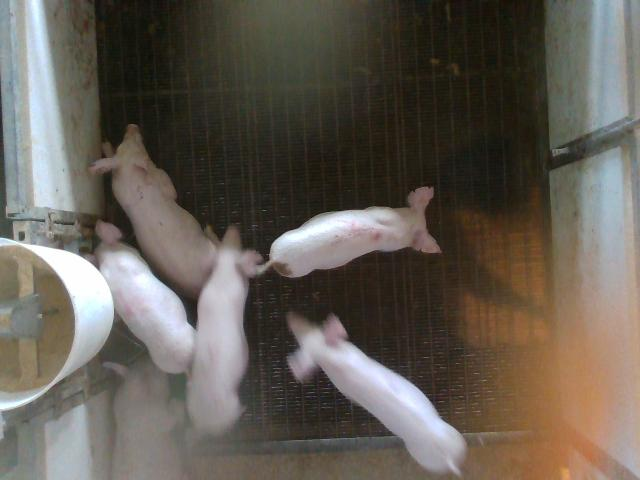pig-4: (95, 220, 195, 373)
pig-5: (258, 186, 441, 277)
